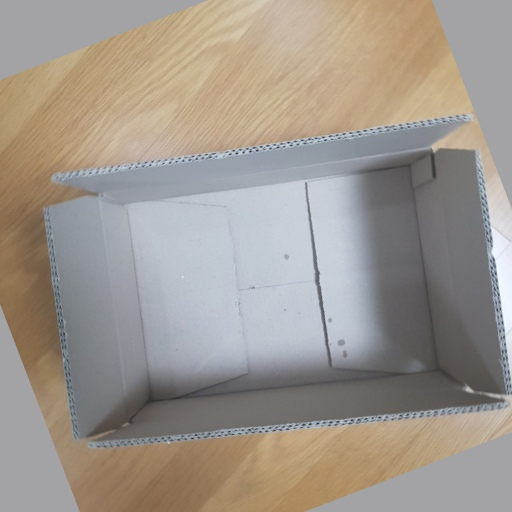Paper_0: (33, 112, 512, 452)
